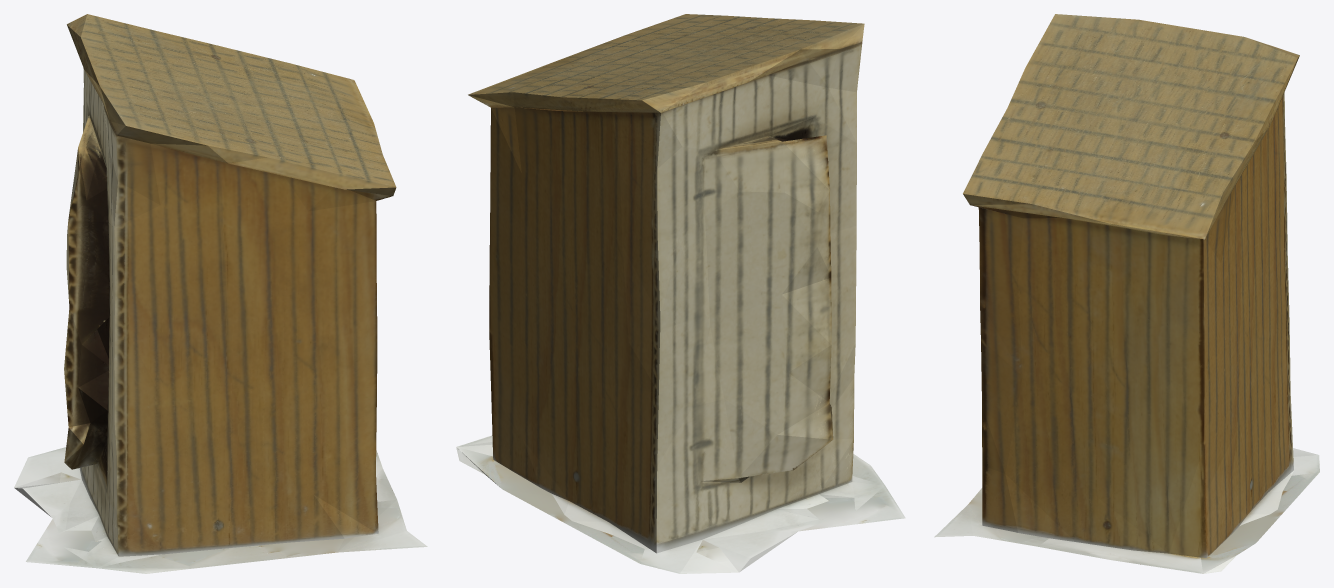
Rendered from mdl_bat_ete_39.fbx.
The picture shows the model from 3 angles, left to right: view 1: azimuth 30°, elevation 25°; view 2: azimuth 150°, elevation 25°; view 3: azimuth 270°, elevation 25°; orthographic projection. The views are drawn at different scales.
Parts seen in each view (by area): view 1: mdl_bat_ete_39; view 2: mdl_bat_ete_39; view 3: mdl_bat_ete_39.
Boxes of the visible parts, bbox=[...] form: mdl_bat_ete_39: bbox=[14, 14, 427, 573]; mdl_bat_ete_39: bbox=[456, 14, 905, 573]; mdl_bat_ete_39: bbox=[934, 14, 1319, 573].
Bounding box in the file's own units: 7.5 × 8.43 × 6.76.
Materials: 1 (1 with a texture image).
